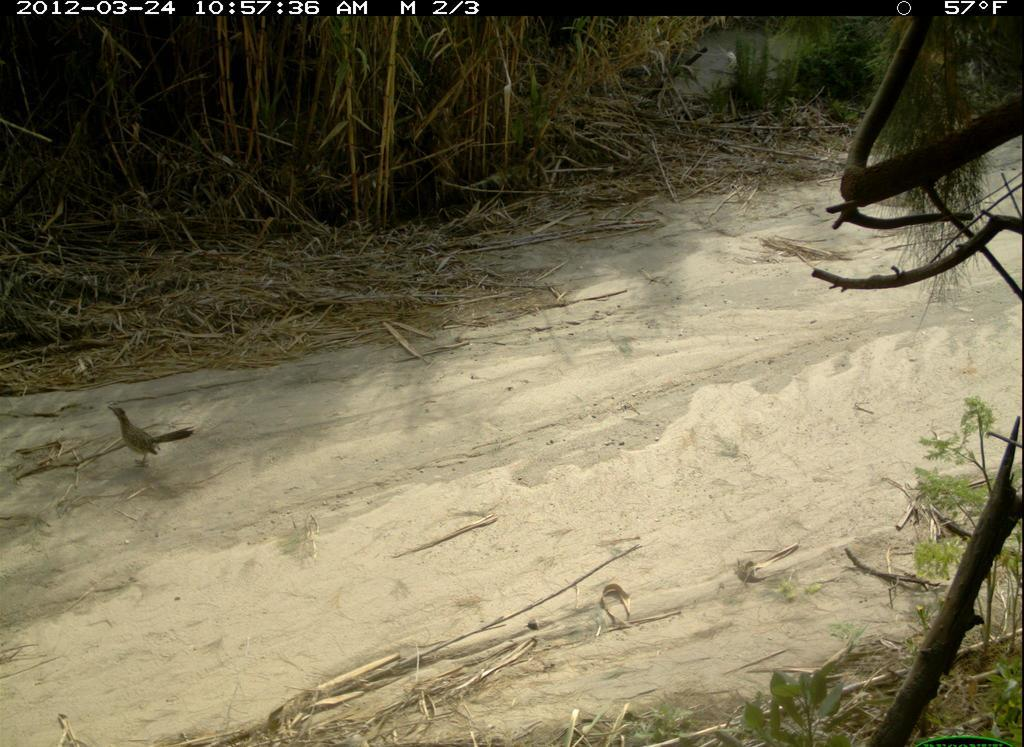bird: (103, 397, 231, 486)
